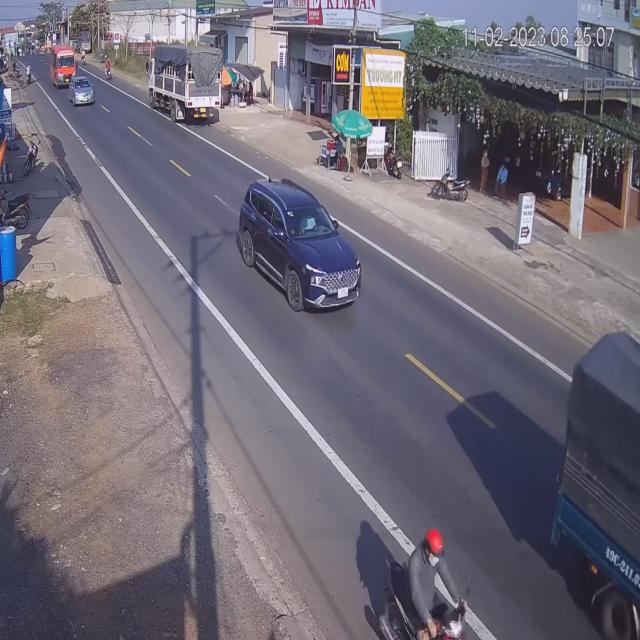bus: (50, 46, 72, 84)
car: (237, 177, 361, 313), (70, 76, 94, 109)
motorbike: (365, 526, 469, 638)
truck: (566, 330, 640, 640), (150, 44, 224, 126)
